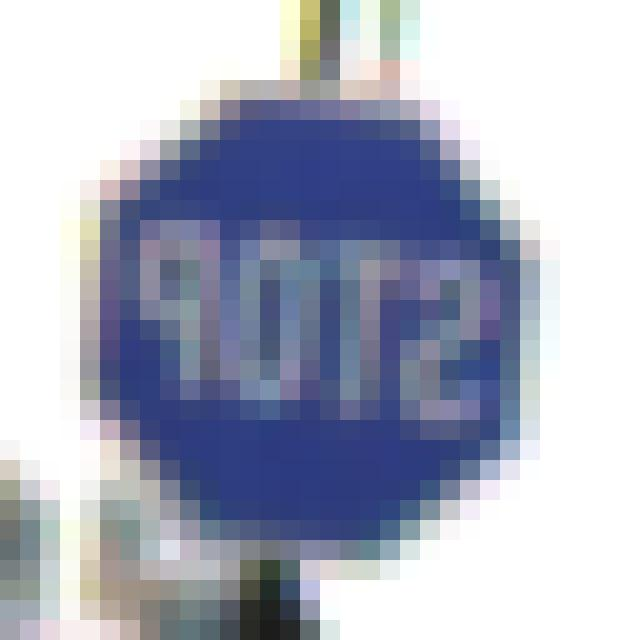STOP: (90, 108, 516, 539)
